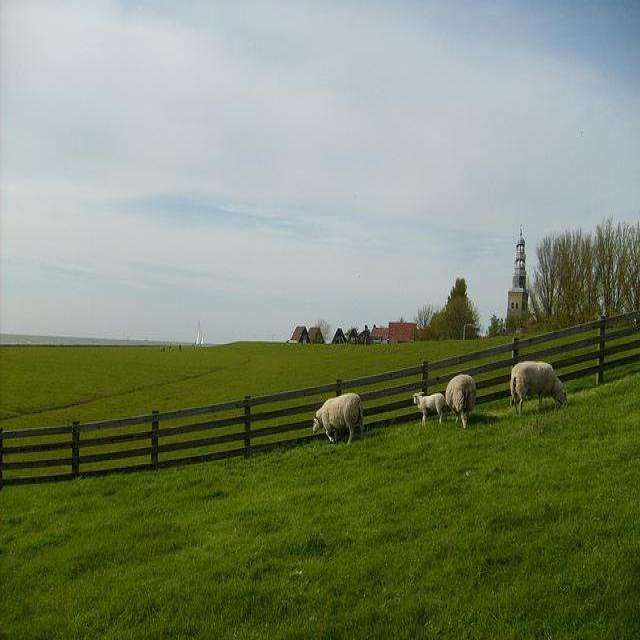Sheep: (511, 360, 570, 417), (314, 393, 366, 447)
